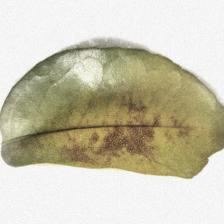black spot: (48, 96, 177, 157)
